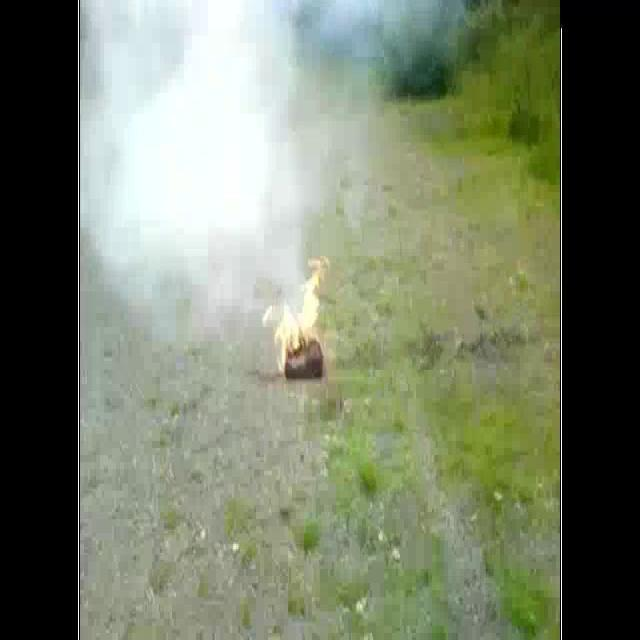Fire: (262, 256, 332, 378)
Smoke: (81, 0, 467, 374)
